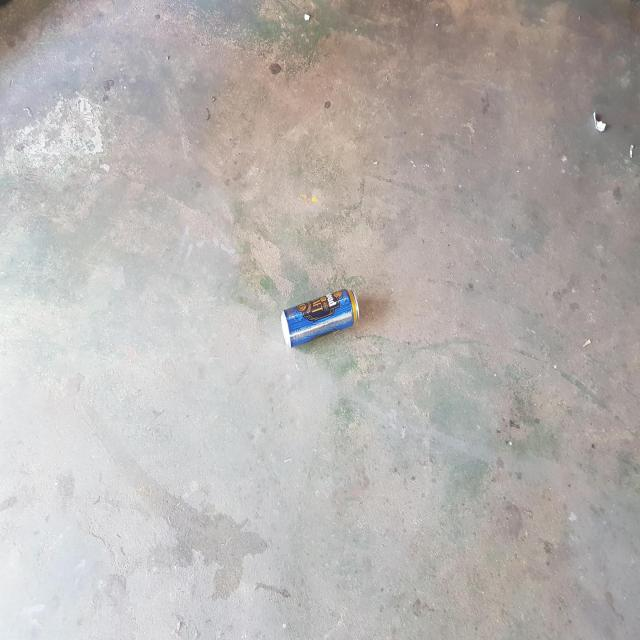can: (281, 289, 359, 347)
